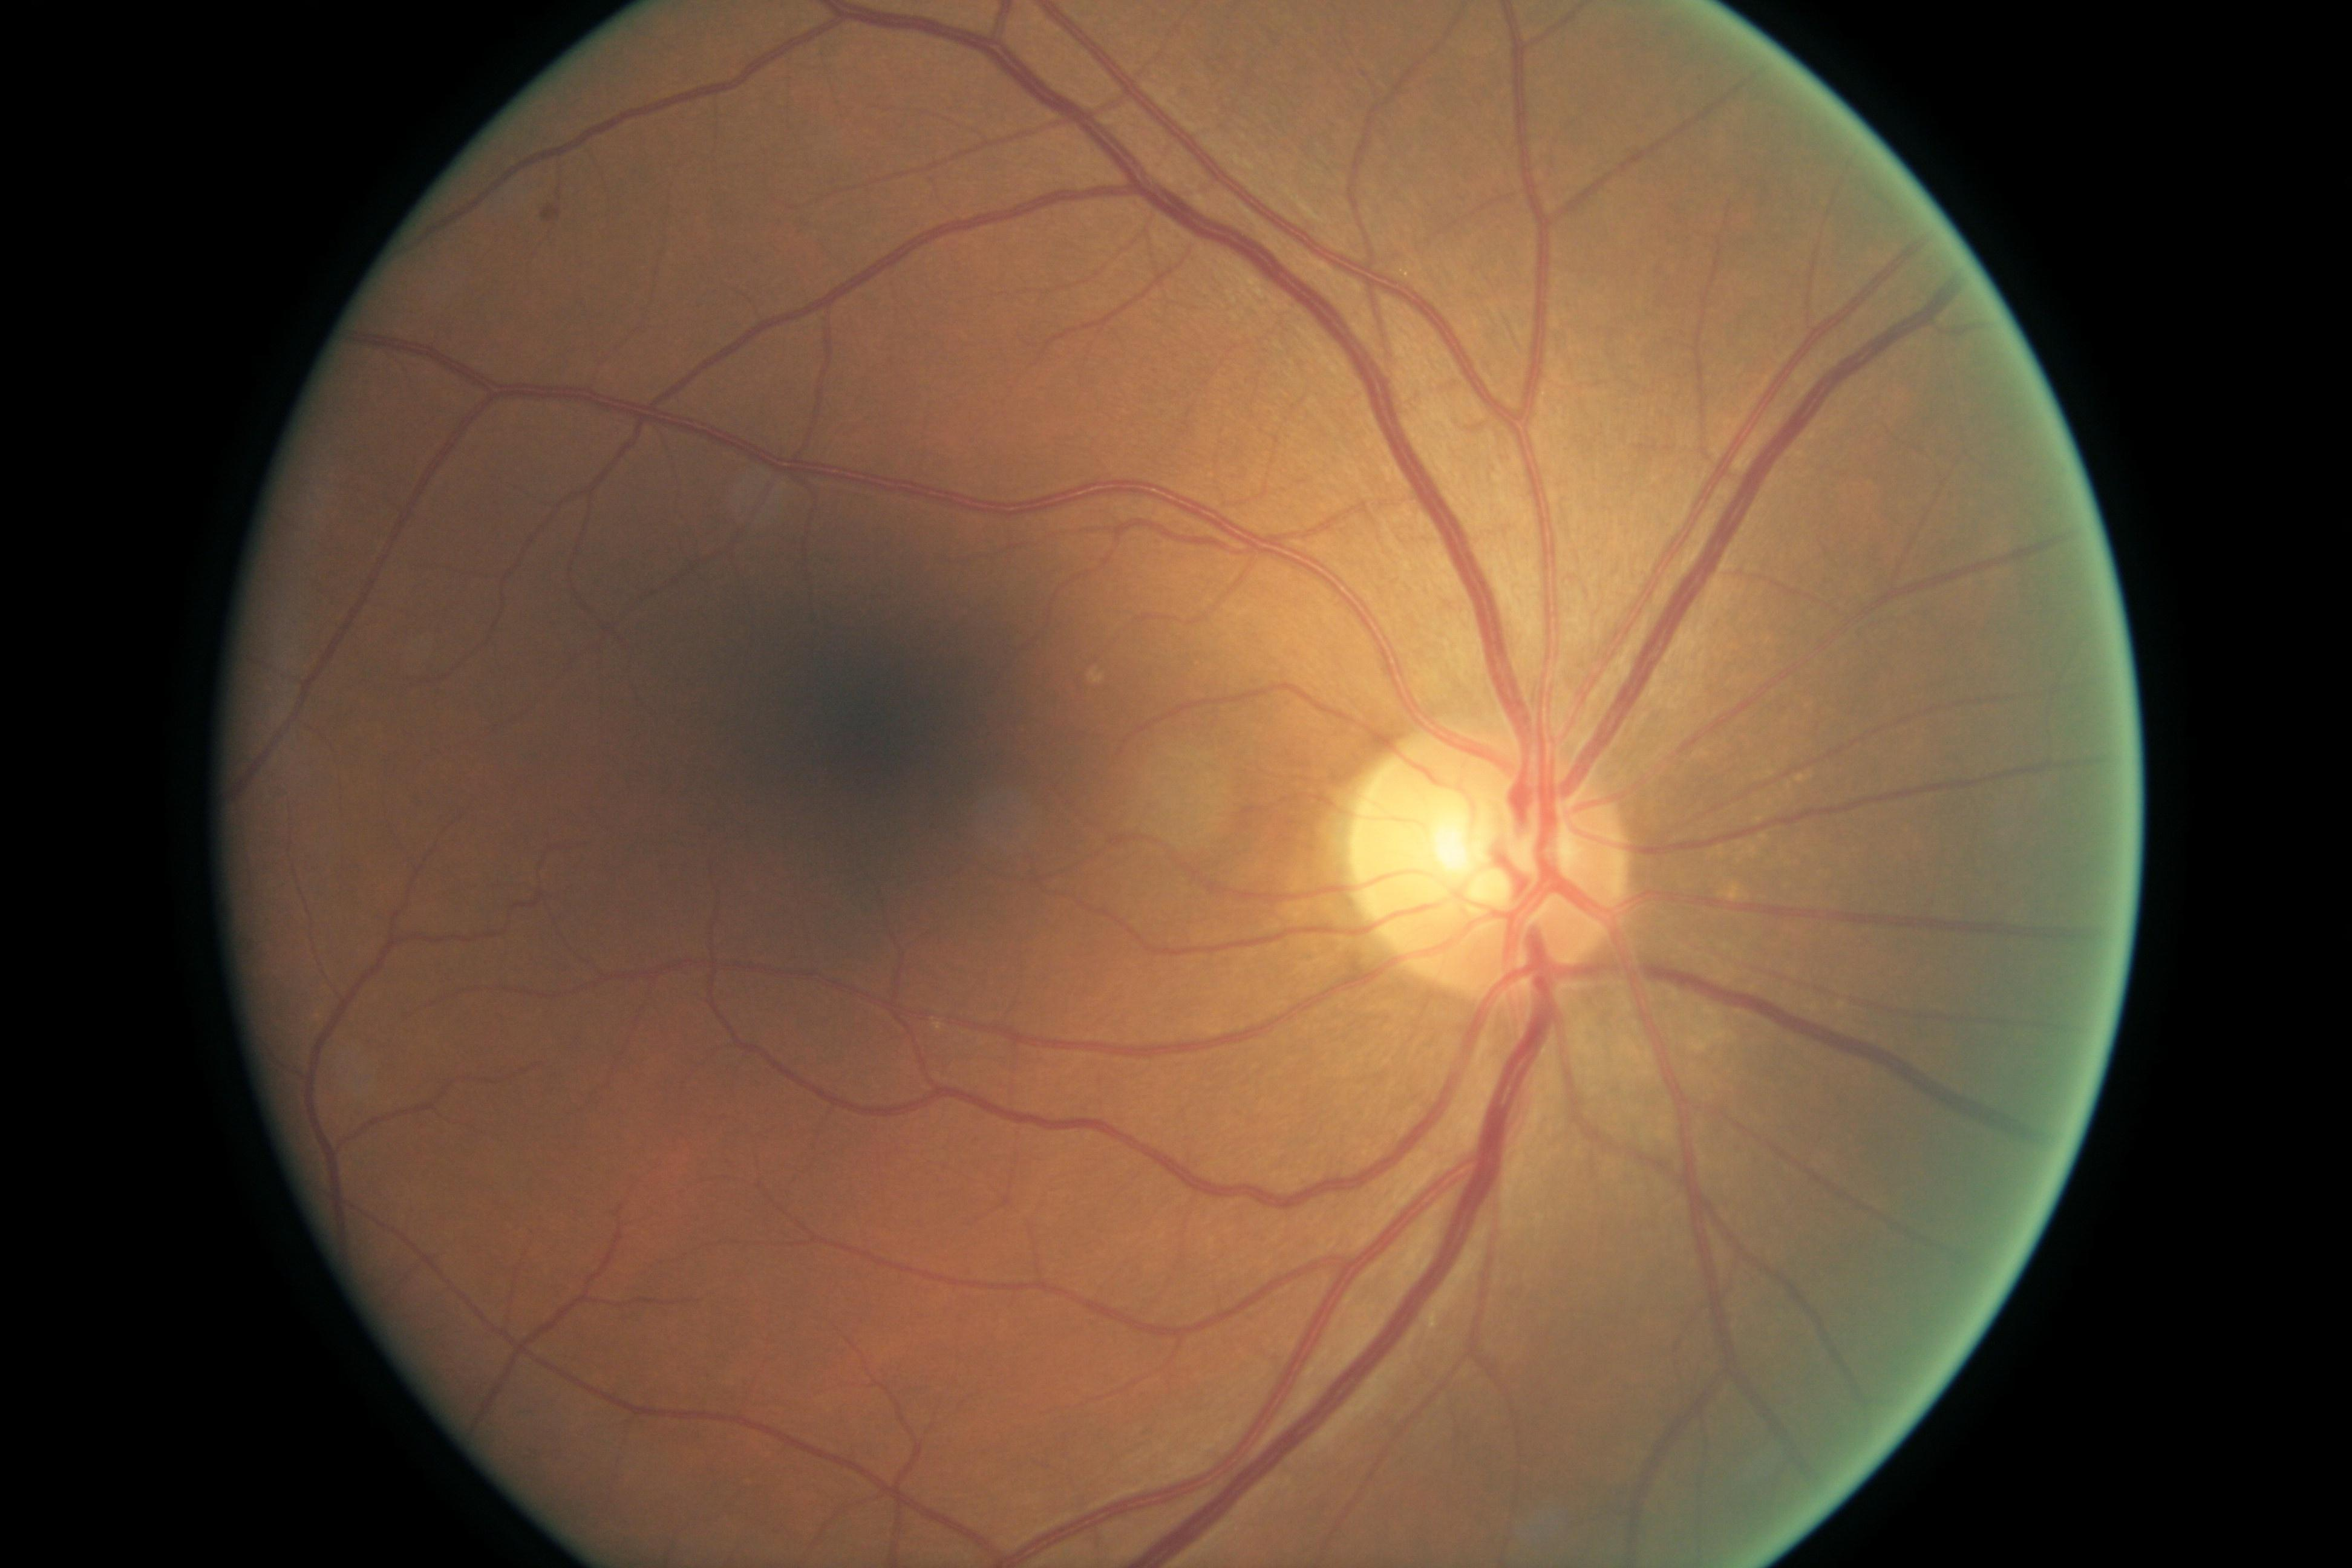Optic-nerve: (1338, 724, 1625, 1014)
macula: (681, 561, 1044, 837)
